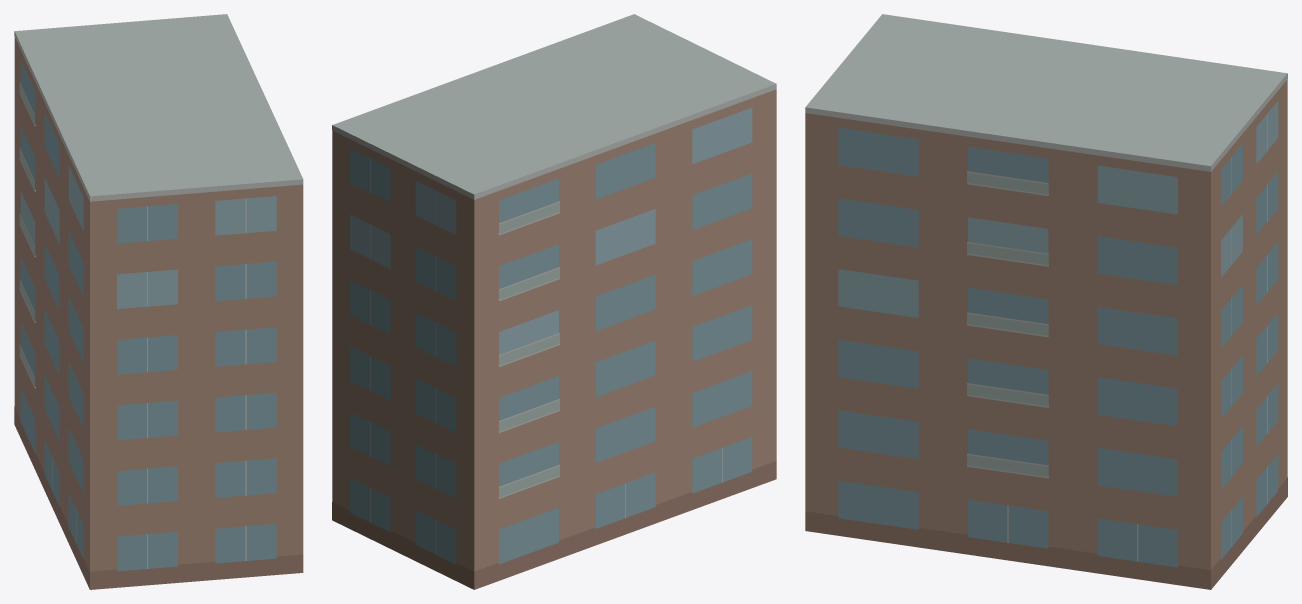
The model's file is survey-upis-32682182.glb.
The picture shows the model from 3 angles, left to right: view 1: azimuth 30°, elevation 25°; view 2: azimuth 150°, elevation 25°; view 3: azimuth 270°, elevation 25°; orthographic projection. The views are drawn at different scales.
Visible parts, largest first — view 1: survey-upis-32682182.tmp; view 2: survey-upis-32682182.tmp; view 3: survey-upis-32682182.tmp.
Part boxes in pixels (bbox=[...]): survey-upis-32682182.tmp: bbox=[14, 14, 303, 589]; survey-upis-32682182.tmp: bbox=[332, 14, 776, 589]; survey-upis-32682182.tmp: bbox=[805, 14, 1287, 589].
Size of the model in its own units: 14.12 by 18.3 by 18.9.
